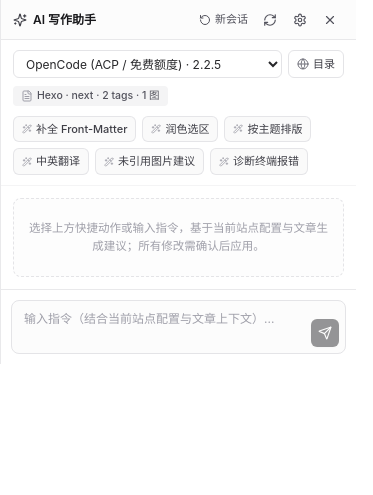
Phase 4A: Site-aware AI prompts, drawer, and settings › renders AiAssistantDrawer, switches providers, streams thought & delta events, and triggers apply callbacks
The width and height of the screenshot is (373, 495).
Later steps or results of the test are not shown.
Check: the element with test id "ai-context-chip" shows "Hexo", box [37, 89, 160, 102]
Check: the element with test id "ai-context-chip" shows "next", box [37, 89, 160, 102]
Select "Antigravity (ACP) · 1.5.17" in the dropdown with test id "ai-provider-select" at (148, 64), box [13, 50, 282, 78]
Click the button "补全 Front-Matter" at (75, 129), box [13, 116, 136, 142]
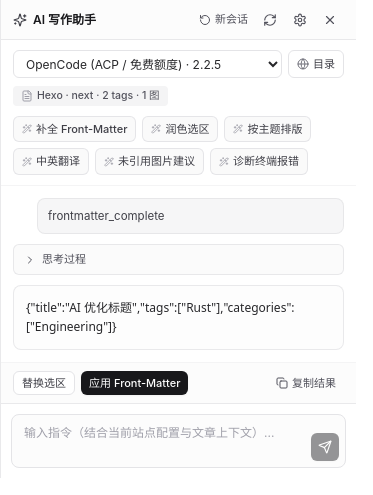
Check: the text with test id "ai-output-text" shows "AI 优化标题", box [26, 299, 294, 335]
